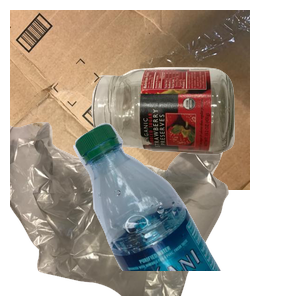cardboard: (10, 10, 250, 190)
glass: (89, 65, 300, 212)
plastic: (71, 120, 300, 300)
trash: (10, 120, 231, 300)
